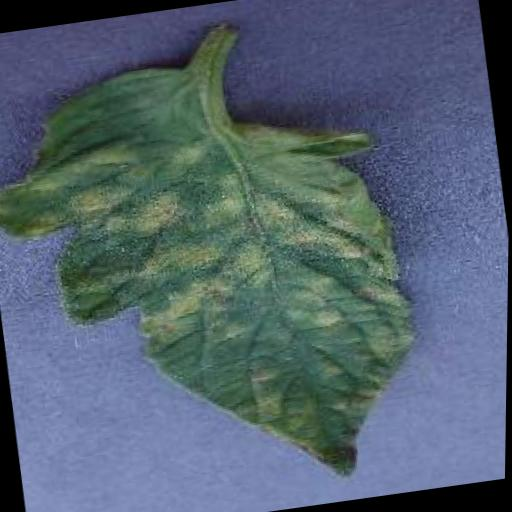Leaf Mold: (0, 36, 443, 512)
